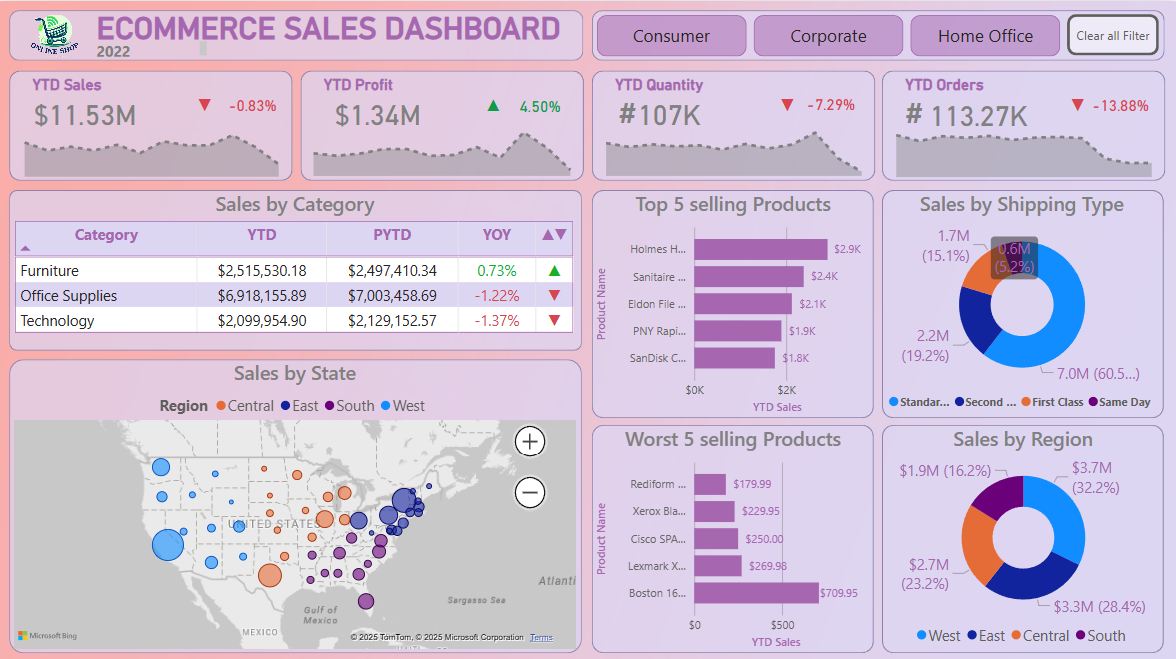

The page's visual inventory and layout, read from the dashboard file:
{"tool":"powerbi","page":{"name":"Sales Dashboard","canvas":[1280,720],"ordinal":0},"visuals":[{"type":"shape","box":[10,10,625,55],"z":0},{"type":"card","title":"YTD Sales","fields":{"Values":["ecommerce_data.Sum of sales_per_order YTD"]},"box":[18,100,150,41],"z":0,"group":"g1"},{"type":"card","title":"YTD Sales","fields":{"Values":["ecommerce_data.YTD Quantity"]},"box":[653,100,150,41],"z":0,"group":"g3"},{"type":"card","title":"YTD Sales","fields":{"Values":["CountNonNull(ecommerce_data.order_id)"]},"box":[995,100,138,43],"z":0,"group":"g4"},{"type":"areaChart","fields":{"Category":["Calendar.Date.Variation.Date Hierarchy.Month"],"Y":["Sum(ecommerce_data.profit_per_order)"]},"box":[325.3,126.7,310,68.3],"z":0,"group":"g2"},{"type":"shape","box":[10,75,308.3,120],"z":1000},{"type":"card","title":"YTD Sales","fields":{"Values":["ecommerce_data.YTD Profit"]},"box":[335,100,150,41],"z":1000,"group":"g2"},{"type":"areaChart","fields":{"Y":["Sum(ecommerce_data.sales_per_order)"],"Category":["Calendar.Date.Variation.Date Hierarchy.Month"]},"box":[11.7,123.3,306.7,71.7],"z":1000,"group":"g1"},{"type":"areaChart","fields":{"Y":["Sum(ecommerce_data.order_quantity)"],"Category":["Calendar.Date.Variation.Date Hierarchy.Month"]},"box":[645,126.7,308.3,68.3],"z":1000,"group":"g3"},{"type":"areaChart","fields":{"Category":["Calendar.Date.Variation.Date Hierarchy.Month"],"Y":["CountNonNull(ecommerce_data.order_id)"]},"box":[960,130,308.3,65],"z":1000,"group":"g4"},{"type":"textbox","box":[30,75,125,29],"z":2000,"group":"g1"},{"type":"shape","box":[326.7,75,308.3,120],"z":2000},{"type":"textbox","box":[347,75,125,29],"z":2000,"group":"g2"},{"type":"textbox","box":[665,75,125,29],"z":2000,"group":"g3"},{"type":"textbox","box":[980,75,125,29],"z":2000,"group":"g4"},{"type":"shape","box":[645,10,623.3,55],"z":3000},{"type":"card","fields":{"Values":["ecommerce_data.YOY Orders"]},"box":[1185,100,68,26],"z":3000,"group":"g4"},{"type":"card","fields":{"Values":["ecommerce_data.YOY Quantity"]},"box":[866.2,101.2,77.5,23.8],"z":3000,"group":"g3"},{"type":"card","fields":{"Values":["ecommerce_data.YOY Sales"]},"box":[234.3,102.8,81.1,23.3],"z":3000,"group":"g1"},{"type":"card","fields":{"Values":["ecommerce_data.YOY Profit"]},"box":[543.4,103.6,87.1,22.9],"z":3000,"group":"g2"},{"type":"card","fields":{"Values":["ecommerce_data.Sales Icon"]},"box":[212,100,23,26],"z":4000,"group":"g1"},{"type":"card","fields":{"Values":["ecommerce_data.Icon Quantity"]},"box":[847,100,23,26],"z":4000,"group":"g3"},{"type":"card","fields":{"Values":["ecommerce_data.Icon Orders"]},"box":[1162,100,23,26],"z":4000,"group":"g4"},{"type":"card","fields":{"Values":["ecommerce_data.Profit Icon"]},"box":[525.3,101.2,22.5,26.2],"z":4000,"group":"g2"},{"type":"shape","box":[10,205,623.3,175],"z":4000},{"type":"shape","box":[10,390,623.3,320],"z":5000},{"type":"shape","box":[645,75,308.3,120],"z":6000},{"type":"shape","box":[960,75,308.3,120],"z":7000},{"type":"shape","box":[645,205,306.7,248.3],"z":8000},{"type":"shape","box":[960,205,306.7,248.3],"z":9000},{"type":"shape","box":[645,461.7,306.7,248.3],"z":10000},{"type":"shape","box":[960,461.7,306.7,248.3],"z":11000},{"type":"textbox","box":[87.1,10,545.7,45],"z":12000},{"type":"image","box":[10,10,98.6,55.7],"z":13000},{"type":"tableEx","title":"Sales by Category","fields":{"Values":["ecommerce_data.category_name","ecommerce_data.YTD Sales","ecommerce_data.PYTD Sales","ecommerce_data.YOY Sales","ecommerce_data.Icon Sales"]},"box":[10,205,621.7,175],"z":14000},{"type":"group","id":"g1","title":"Group 1","box":[11.7,75,306.7,120],"z":15000},{"type":"group","id":"g2","title":"Group 1","box":[325.3,75,310,120],"z":16000},{"type":"group","id":"g3","title":"Group 1","box":[645,75,308.3,120],"z":17000},{"type":"group","id":"g4","title":"Group 1","box":[960,75,308.3,120],"z":18000},{"type":"textbox","box":[653.3,100,60,51.7],"z":19000},{"type":"map","title":"Sales by State","fields":{"Y":["us_state_long_lat_codes.latitude"],"X":["us_state_long_lat_codes.longitude"],"Series":["ecommerce_data.customer_region"],"Size":["ecommerce_data.YTD Sales"]},"box":[10,390,621.7,320],"z":20000},{"type":"clusteredBarChart","title":"Top 5 selling Products","fields":{"Category":["ecommerce_data.product_name"],"Y":["ecommerce_data.YTD Sales"]},"box":[644.3,205.7,307.1,248.6],"z":21000},{"type":"donutChart","title":"Sales by Region","fields":{"Category":["ecommerce_data.customer_region"],"Y":["ecommerce_data.YTD Sales"]},"box":[960,461.4,307.1,248.6],"z":22000},{"type":"clusteredBarChart","title":"Worst 5 selling Products","fields":{"Category":["ecommerce_data.product_name"],"Y":["ecommerce_data.YTD Sales"]},"box":[644.3,461.4,307.1,248.6],"z":23000},{"type":"donutChart","title":"Sales by Shipping Type","fields":{"Y":["ecommerce_data.YTD Sales"],"Category":["ecommerce_data.shipping_type"]},"box":[958.6,205.7,307.1,248.6],"z":24000},{"type":"actionButton","box":[1161,14,100,45],"z":25000},{"type":"textbox","box":[980,100,30,52],"z":26000},{"type":"advancedSlicerVisual","fields":{"Values":["ecommerce_data.customer_segment"]},"box":[644.3,10,517.1,55.7],"z":27000},{"type":"textbox","box":[100,38.6,130,27.1],"z":27001}]}

Visuals, with their boxes in screenshot pixels (x1, y1, x2, y2), scaled from the page's 1280x720 canvas onto the 1176x659 screenshot:
shape: detection(9, 9, 583, 59)
"YTD Sales" card: detection(17, 92, 154, 129)
"YTD Sales" card: detection(600, 92, 738, 129)
"YTD Sales" card: detection(914, 92, 1041, 131)
areaChart - Calendar.Date.Variation.Date Hierarchy.Month x Sum(ecommerce_data.profit_per_order): detection(299, 116, 584, 178)
shape: detection(9, 69, 292, 178)
"YTD Sales" card: detection(308, 92, 446, 129)
areaChart - Sum(ecommerce_data.sales_per_order) x Calendar.Date.Variation.Date Hierarchy.Month: detection(11, 113, 293, 178)
areaChart - Sum(ecommerce_data.order_quantity) x Calendar.Date.Variation.Date Hierarchy.Month: detection(593, 116, 876, 178)
areaChart - Calendar.Date.Variation.Date Hierarchy.Month x CountNonNull(ecommerce_data.order_id): detection(882, 119, 1165, 178)
textbox: detection(28, 69, 142, 95)
shape: detection(300, 69, 583, 178)
textbox: detection(319, 69, 434, 95)
textbox: detection(611, 69, 726, 95)
textbox: detection(900, 69, 1015, 95)
shape: detection(593, 9, 1165, 59)
card - ecommerce_data.YOY Orders: detection(1089, 92, 1151, 115)
card - ecommerce_data.YOY Quantity: detection(796, 93, 867, 114)
card - ecommerce_data.YOY Sales: detection(215, 94, 290, 115)
card - ecommerce_data.YOY Profit: detection(499, 95, 579, 116)
card - ecommerce_data.Sales Icon: detection(195, 92, 216, 115)
card - ecommerce_data.Icon Quantity: detection(778, 92, 799, 115)
card - ecommerce_data.Icon Orders: detection(1068, 92, 1089, 115)
card - ecommerce_data.Profit Icon: detection(483, 93, 503, 117)
shape: detection(9, 188, 582, 348)
shape: detection(9, 357, 582, 650)
shape: detection(593, 69, 876, 178)
shape: detection(882, 69, 1165, 178)
shape: detection(593, 188, 874, 415)
shape: detection(882, 188, 1164, 415)
shape: detection(593, 423, 874, 650)
shape: detection(882, 423, 1164, 650)
textbox: detection(80, 9, 581, 50)
image: detection(9, 9, 100, 60)
"Sales by Category" tableEx: detection(9, 188, 580, 348)
"Group 1" group: detection(11, 69, 293, 178)
"Group 1" group: detection(299, 69, 584, 178)
"Group 1" group: detection(593, 69, 876, 178)
"Group 1" group: detection(882, 69, 1165, 178)
textbox: detection(600, 92, 655, 139)
"Sales by State" map: detection(9, 357, 580, 650)
"Top 5 selling Products" clusteredBarChart: detection(592, 188, 874, 416)
"Sales by Region" donutChart: detection(882, 422, 1164, 650)
"Worst 5 selling Products" clusteredBarChart: detection(592, 422, 874, 650)
"Sales by Shipping Type" donutChart: detection(881, 188, 1163, 416)
actionButton: detection(1067, 13, 1159, 54)
textbox: detection(900, 92, 928, 139)
advancedSlicerVisual - ecommerce_data.customer_segment: detection(592, 9, 1067, 60)
textbox: detection(92, 35, 211, 60)
